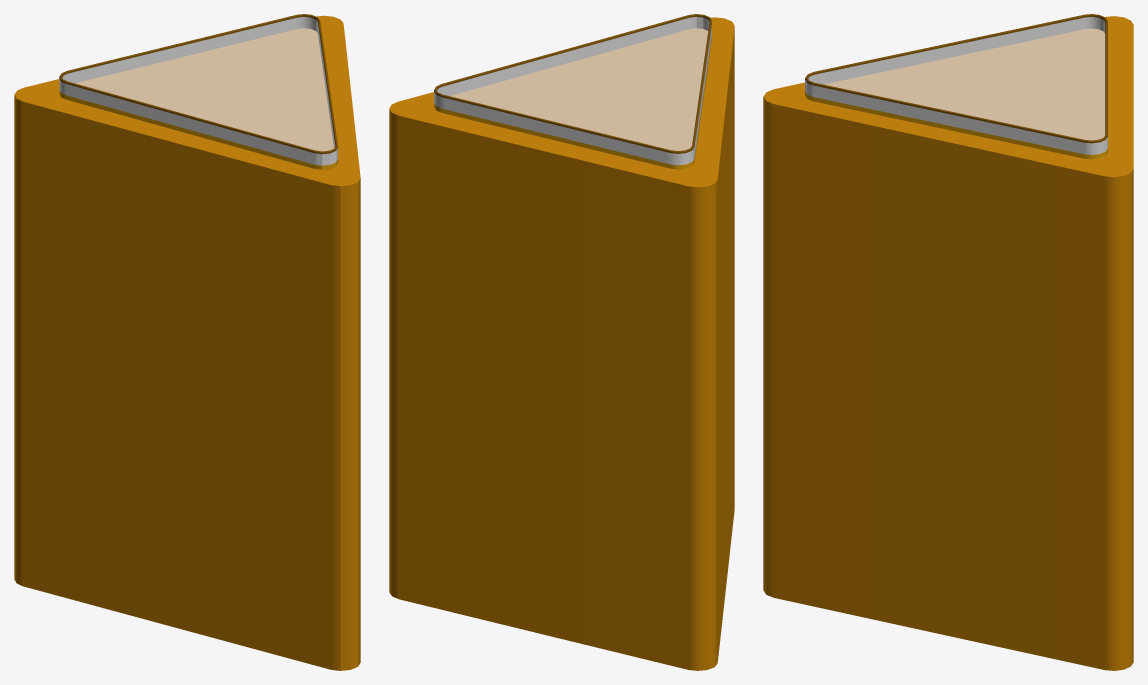
3 views of the same model, side by side, from view 1: azimuth 30°, elevation 25°; view 2: azimuth 150°, elevation 25°; view 3: azimuth 270°, elevation 25° (orthographic). The views are drawn at different scales.
Parts seen in each view (by area): view 1: base33, base14, polySurface1179, polySurface326, polySurface1178; view 2: base33, base14, polySurface1178, polySurface326, polySurface1179; view 3: base33, base14, polySurface1178, polySurface1179, polySurface326.
Boxes of the visible parts, x1,y1,x2,y2 form: base33: (14,15,360,670); base14: (59,28,337,169); polySurface1179: (59,72,317,164); polySurface326: (59,14,337,153); polySurface1178: (294,17,337,159); base33: (389,17,734,670); base14: (434,28,711,169); polySurface1178: (434,17,692,109); polySurface326: (434,14,711,153); polySurface1179: (666,22,711,165); base33: (763,16,1133,670); base14: (805,28,1107,159); polySurface1178: (811,84,1107,154); polySurface1179: (812,17,1105,84); polySurface326: (811,14,1107,143).
Bounding box in the file's own units: 77.61 × 115 × 75.33.
